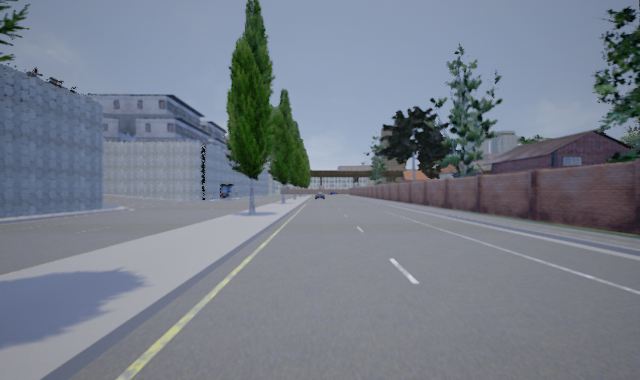vehicle: (314, 191, 326, 199)
